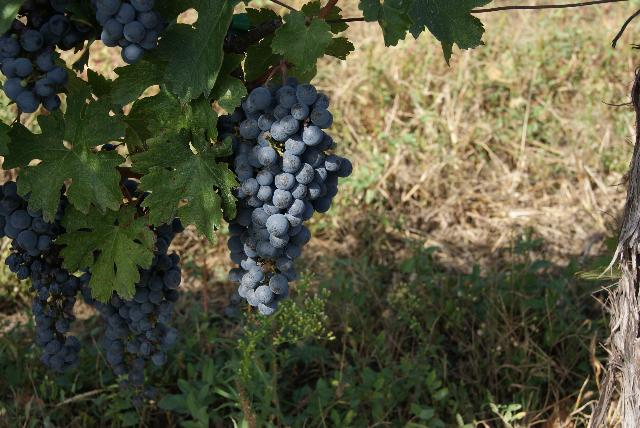grapes: (216, 78, 352, 318), (0, 0, 165, 114), (0, 181, 92, 372), (95, 219, 182, 389)
